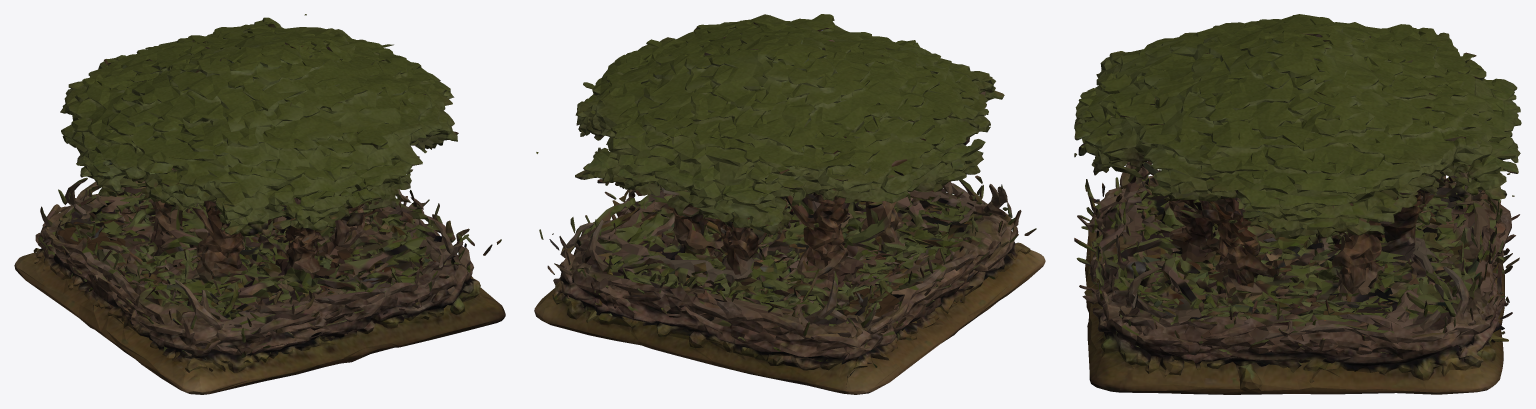
The model's file is tree.glb.
3 views of the same model, side by side, from view 1: azimuth 30°, elevation 25°; view 2: azimuth 150°, elevation 25°; view 3: azimuth 270°, elevation 25° (orthographic). The views are drawn at different scales.
Visible parts, largest first — view 1: geometry_0_LOD0; view 2: geometry_0_LOD0; view 3: geometry_0_LOD0.
Part boxes in pixels (left/top/right/bottom): geometry_0_LOD0: left=14, top=14, right=505, bottom=394; geometry_0_LOD0: left=534, top=14, right=1045, bottom=394; geometry_0_LOD0: left=1074, top=14, right=1521, bottom=394.
Size of what is drawn, in the model's own units: 1.98 by 1.29 by 1.98.
Materials: 1 (1 with a texture image).
